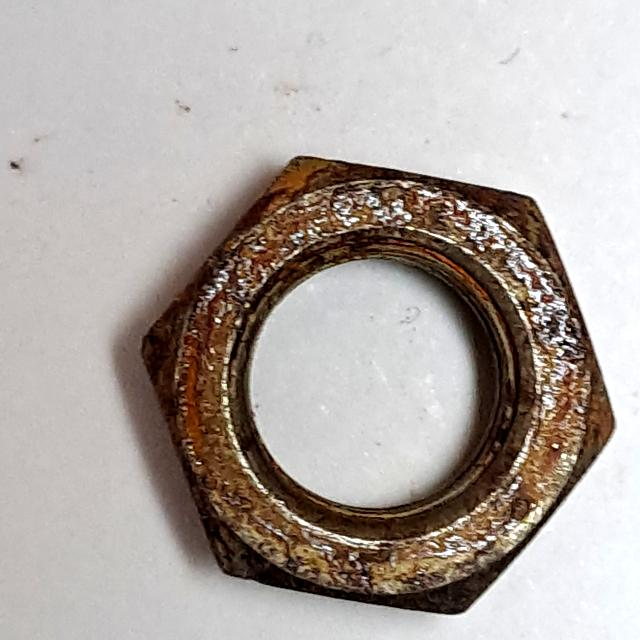Rust: (128, 136, 626, 629)
